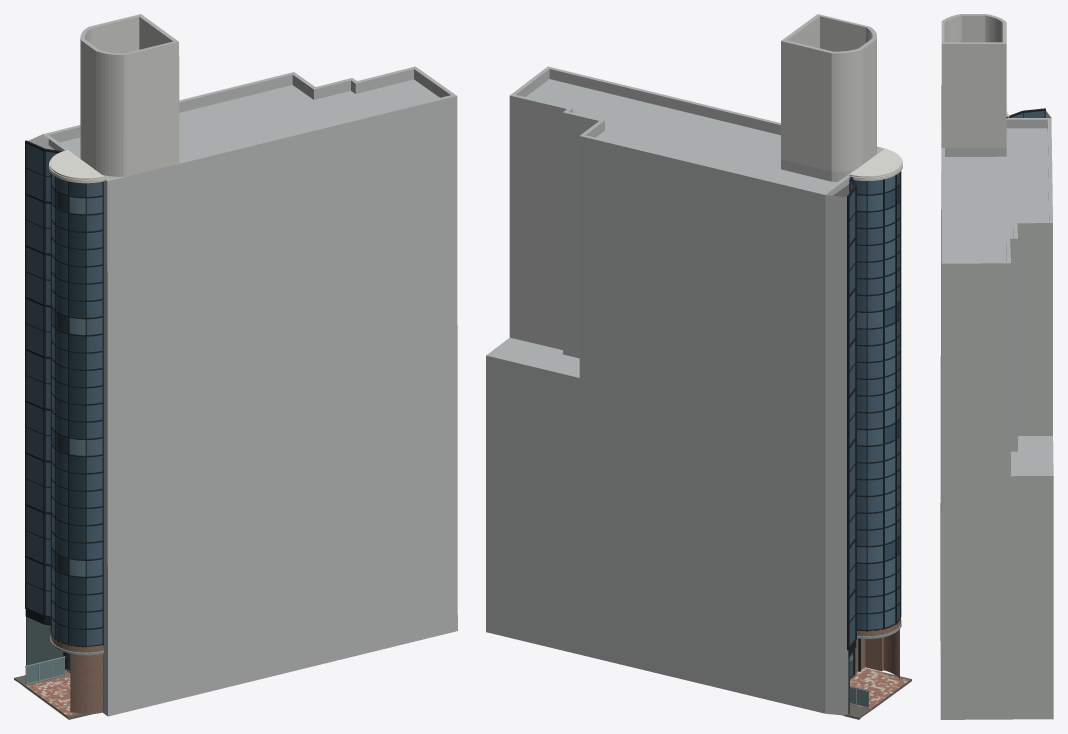
Rendered from d11-iwamoto032.glb.
3 views of the same model, side by side, from view 1: azimuth 30°, elevation 25°; view 2: azimuth 150°, elevation 25°; view 3: azimuth 270°, elevation 25° (orthographic). The views are drawn at different scales.
Visible parts, largest first — view 1: C_observed_curved_frame_grid, Entry_observed_granite_arc_band; view 2: C_observed_curved_frame_grid, Entry_observed_granite_arc_band; view 3: C_observed_curved_frame_grid.
Part boxes in pixels (x1,y1,x2,y2): C_observed_curved_frame_grid: (14,14,457,718); Entry_observed_granite_arc_band: (51,632,103,714); C_observed_curved_frame_grid: (486,14,911,718); Entry_observed_granite_arc_band: (855,618,900,679); C_observed_curved_frame_grid: (940,14,1053,719).
Bounding box in the file's own units: 24.69 × 40.62 × 7.43.
3 materials, 2 textured.
